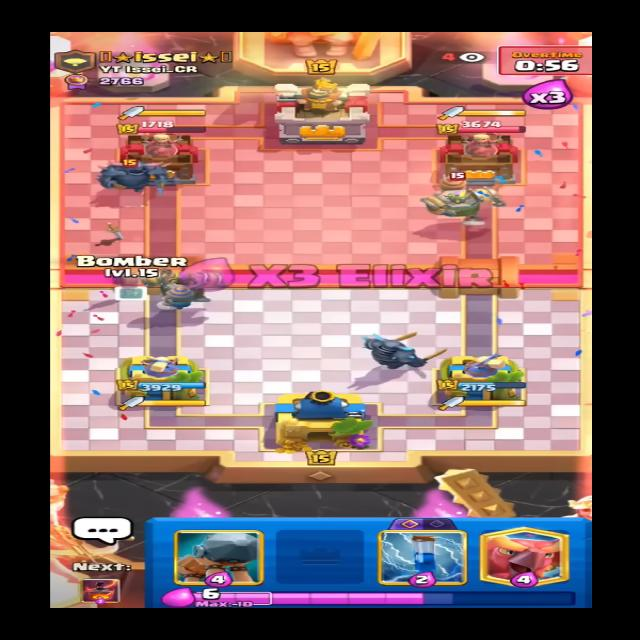goblin-machine: (410, 171, 512, 222)
pekka: (97, 156, 172, 194)
